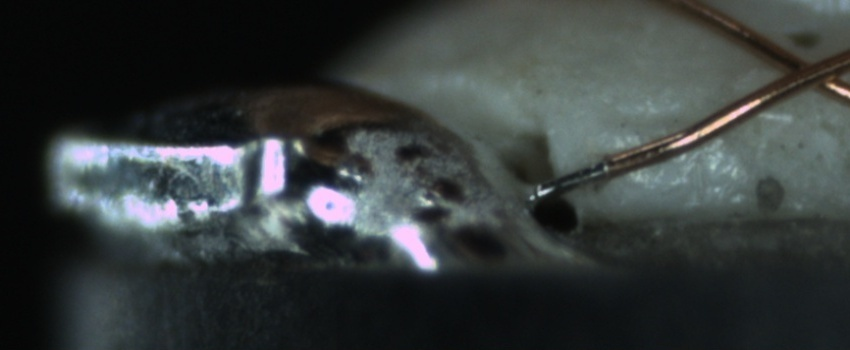CL: (758, 36, 849, 103)
DL: (598, 97, 692, 152)
TS: (531, 160, 610, 198)
TTCW: (528, 147, 634, 199)
